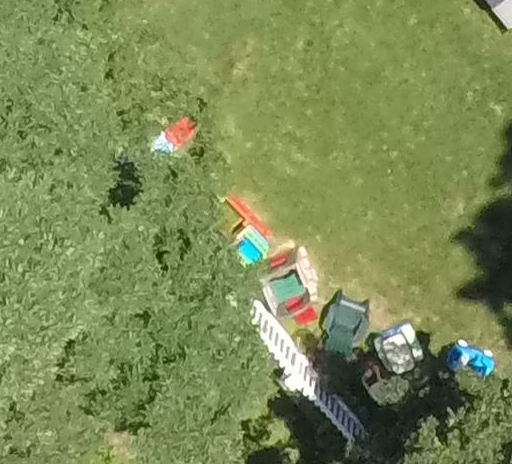container: (223, 222, 274, 270)
toy: (444, 329, 505, 380)
